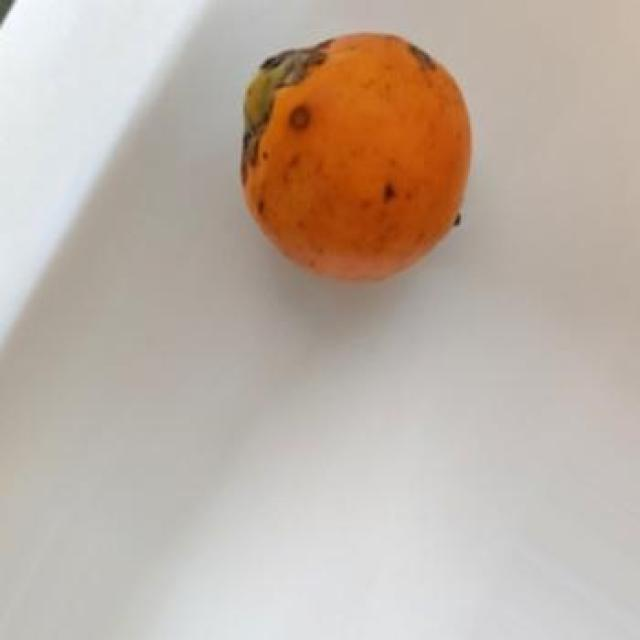good: (241, 33, 474, 285)
